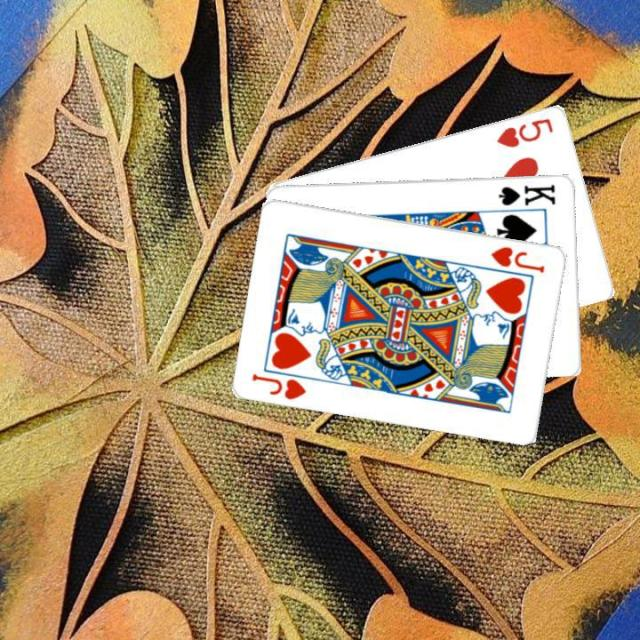5H: (494, 114, 556, 149)
JH: (487, 242, 547, 274), (249, 369, 308, 401)
KS: (494, 180, 558, 207)
